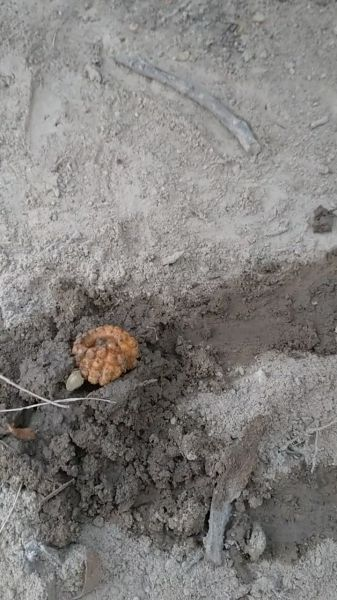eggs: (70, 318, 142, 389)
